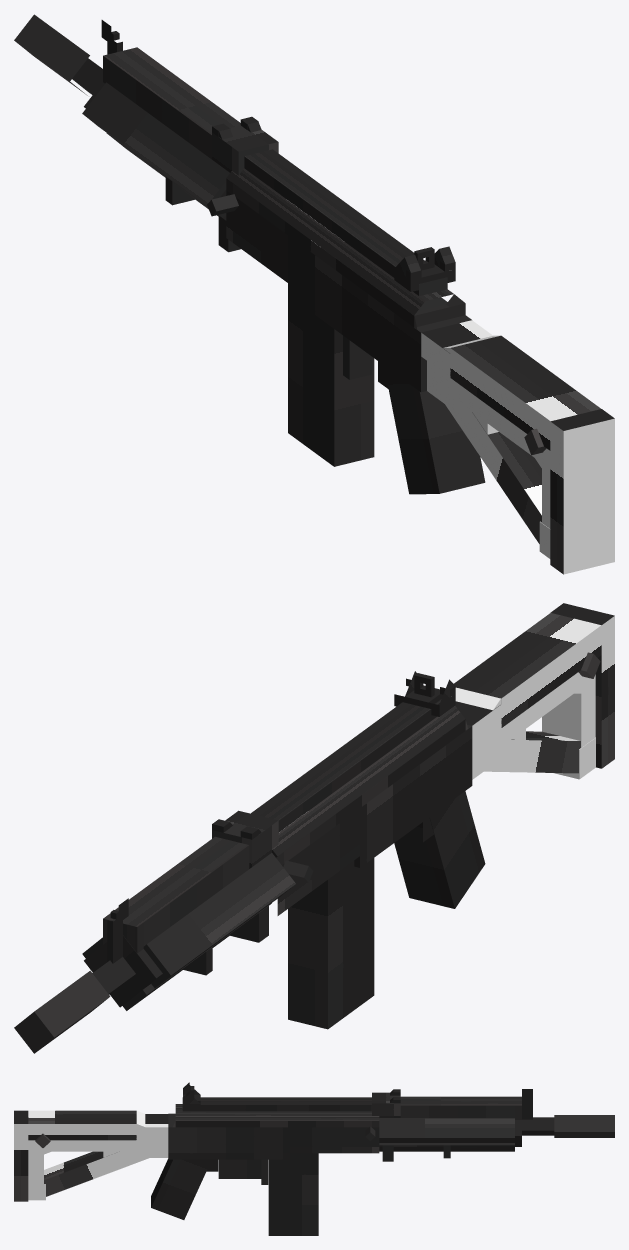
File: aurorasarsenal_vepr_hunter.glb
3 renders of one model, top to bottom at view 1: azimuth 30°, elevation 25°; view 2: azimuth 150°, elevation 25°; view 3: azimuth 270°, elevation 25°, orthographic. The views are drawn at different scales.
Parts seen in each view (by area): view 1: Gun; view 2: Gun; view 3: Gun.
Boxes of the visible parts, x1,y1,x2,y2 form: Gun: (14,14,614,574); Gun: (14,603,614,1053); Gun: (14,1082,614,1235).
Bounding box in the file's own units: 0.1063 × 0.2781 × 1.05.
1 material, 1 textured.
